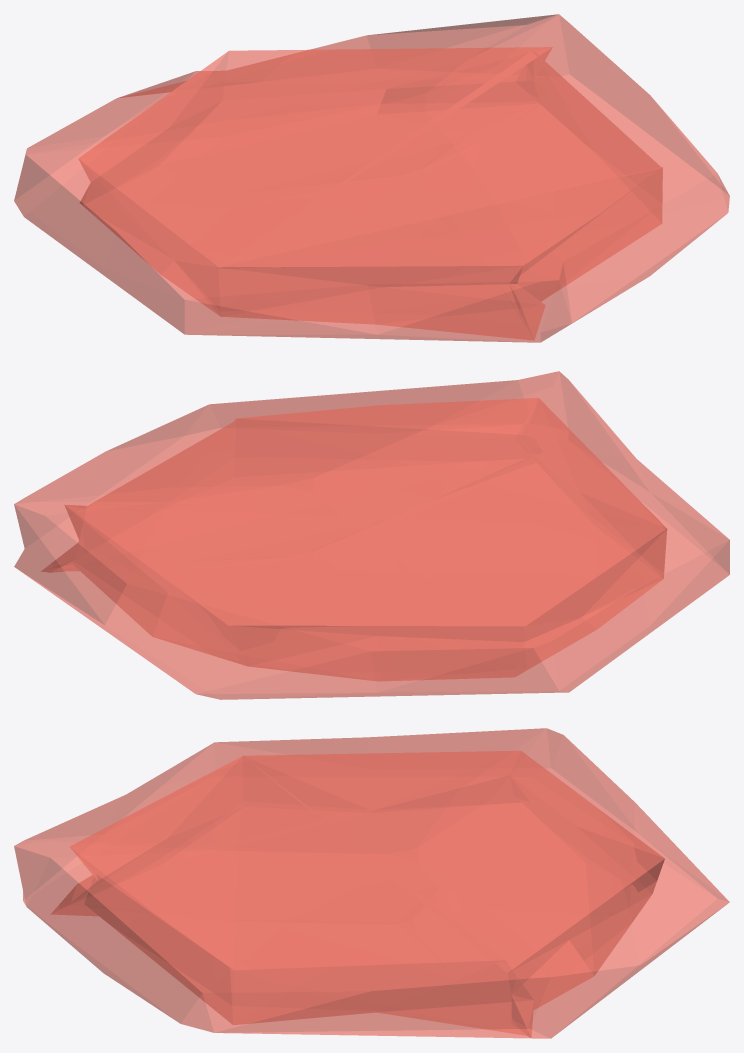
File: tile1_glass.gltf
The picture shows the model from 3 angles, top to bottom: view 1: azimuth 30°, elevation 25°; view 2: azimuth 150°, elevation 25°; view 3: azimuth 270°, elevation 25°; orthographic projection.
Parts seen in each view (by area): view 1: low.001; view 2: low.001; view 3: low.001.
Boxes of the visible parts, x1,y1,x2,y2 form: low.001: (14, 14, 729, 342); low.001: (14, 371, 729, 699); low.001: (14, 728, 729, 1038).
Bounding box in the file's own units: 1.73 × 0.2917 × 2.
